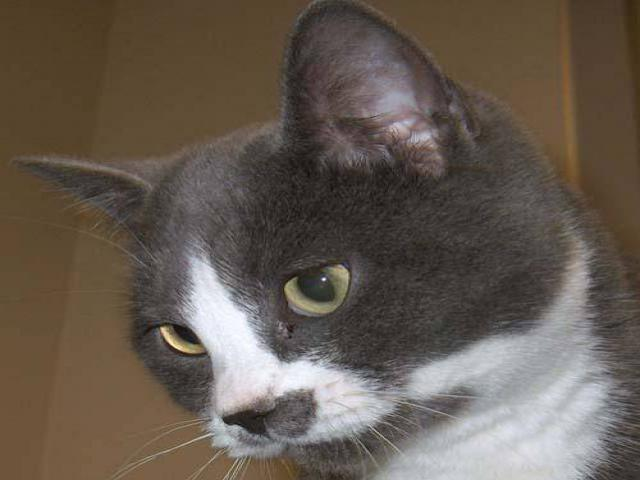cat: (29, 15, 634, 476)
